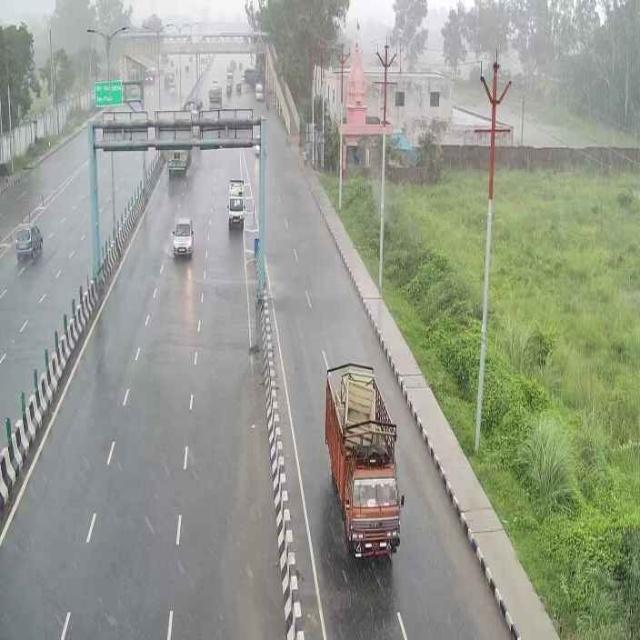car: (164, 213, 199, 265), (10, 217, 46, 267), (222, 172, 249, 233)
